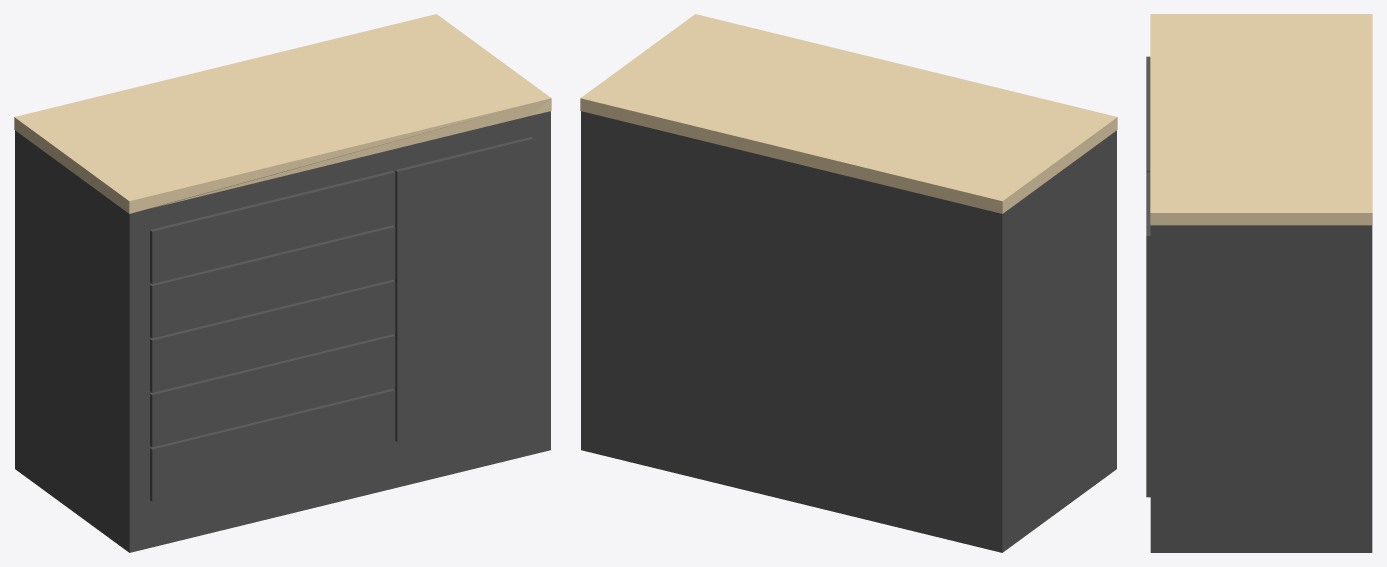
The picture shows the model from 3 angles, left to right: view 1: azimuth 30°, elevation 25°; view 2: azimuth 150°, elevation 25°; view 3: azimuth 270°, elevation 25°; orthographic projection. The views are drawn at different scales.
Parts seen in each view (by area): view 1: imagetostl_mesh6, imagetostl_mesh11, imagetostl_mesh2, imagetostl_mesh37, imagetostl_mesh22, imagetostl_mesh32, imagetostl_mesh12, imagetostl_mesh27, imagetostl_mesh17, imagetostl_mesh9, imagetostl_mesh8, imagetostl_mesh38 (+5 smaller); view 2: imagetostl_mesh3, imagetostl_mesh6, imagetostl_mesh2, imagetostl_mesh7, imagetostl_mesh8; view 3: imagetostl_mesh4, imagetostl_mesh6, imagetostl_mesh10, imagetostl_mesh40, imagetostl_mesh15, imagetostl_mesh41.
Boxes of the visible parts, left/top/right/bottom form: imagetostl_mesh6: left=15, top=14, right=551, bottom=201; imagetostl_mesh11: left=129, top=111, right=550, bottom=552; imagetostl_mesh2: left=15, top=130, right=129, bottom=552; imagetostl_mesh37: left=397, top=139, right=532, bottom=441; imagetostl_mesh22: left=152, top=281, right=395, bottom=392; imagetostl_mesh32: left=152, top=390, right=395, bottom=501; imagetostl_mesh12: left=152, top=172, right=395, bottom=283; imagetostl_mesh27: left=152, top=336, right=395, bottom=447; imagetostl_mesh17: left=152, top=227, right=395, bottom=338; imagetostl_mesh9: left=129, top=98, right=551, bottom=213; imagetostl_mesh8: left=14, top=117, right=129, bottom=213; imagetostl_mesh38: left=395, top=170, right=397, bottom=441; imagetostl_mesh3: left=581, top=111, right=1002, bottom=552; imagetostl_mesh6: left=580, top=14, right=1116, bottom=201; imagetostl_mesh2: left=1002, top=130, right=1116, bottom=552; imagetostl_mesh7: left=580, top=98, right=1002, bottom=213; imagetostl_mesh8: left=1002, top=117, right=1117, bottom=213; imagetostl_mesh4: left=1150, top=225, right=1372, bottom=552; imagetostl_mesh6: left=1150, top=14, right=1372, bottom=212; imagetostl_mesh10: left=1150, top=213, right=1372, bottom=225; imagetostl_mesh40: left=1146, top=236, right=1150, bottom=497; imagetostl_mesh15: left=1146, top=56, right=1150, bottom=170; imagetostl_mesh41: left=1146, top=172, right=1150, bottom=235.
Bounding box in the file's own units: 0.8205 × 0.6535 × 0.3945.
